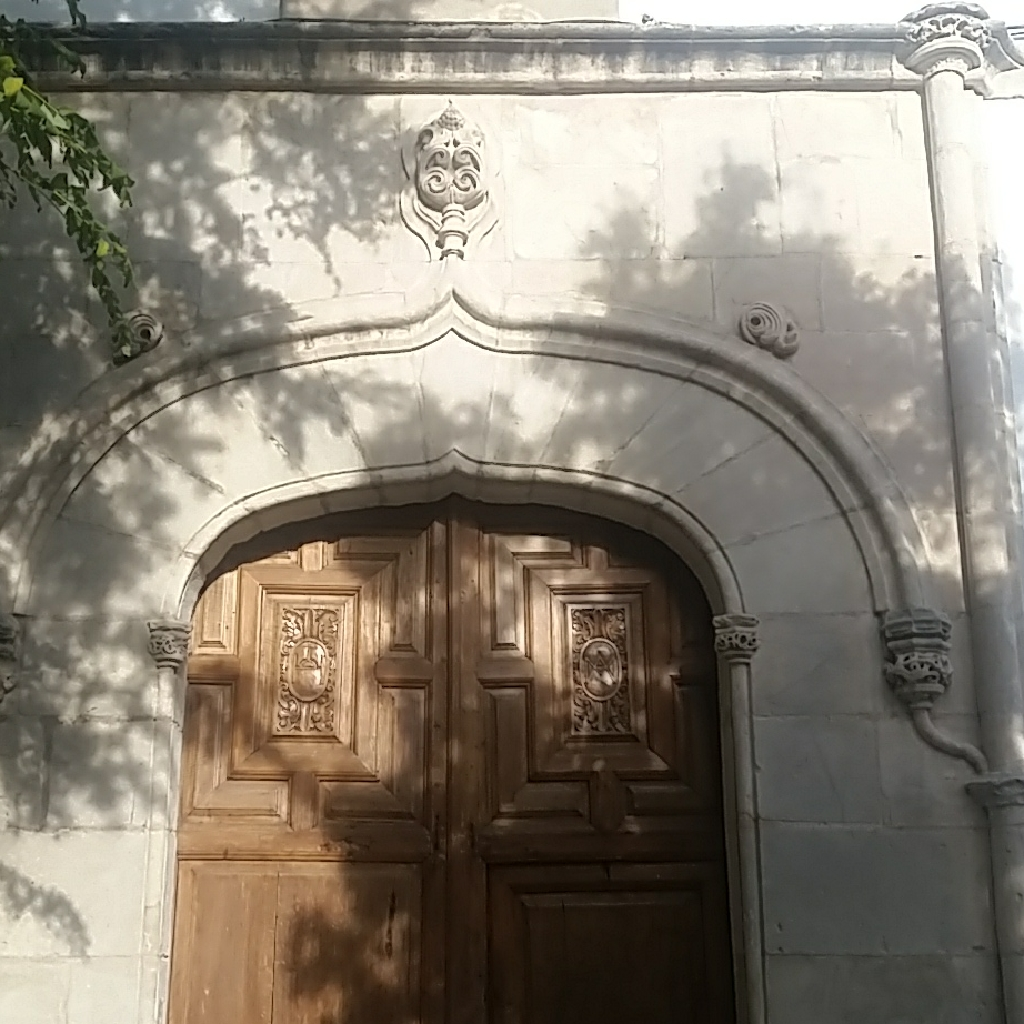arco-conopial: (70, 277, 829, 416), (169, 437, 718, 548)
